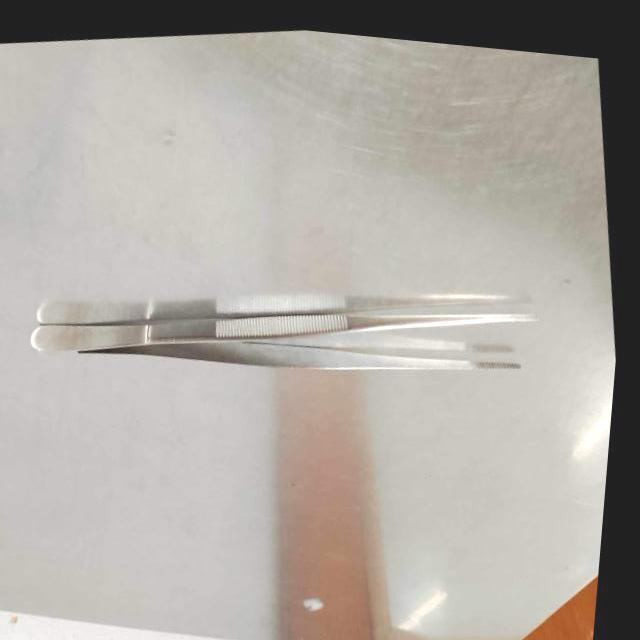Infectious: (29, 289, 538, 370)
Pathological: (1, 27, 615, 638)
